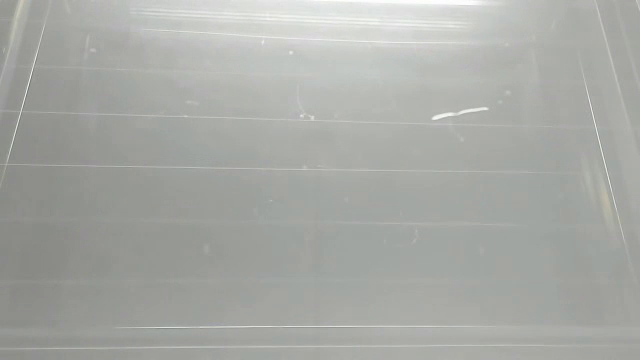alpha: (428, 102, 492, 125)
